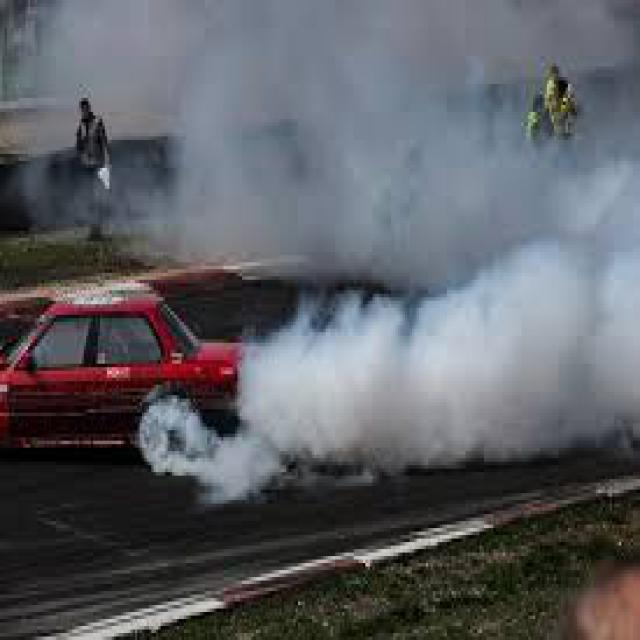smoke: (186, 252, 633, 496), (135, 392, 226, 489)
